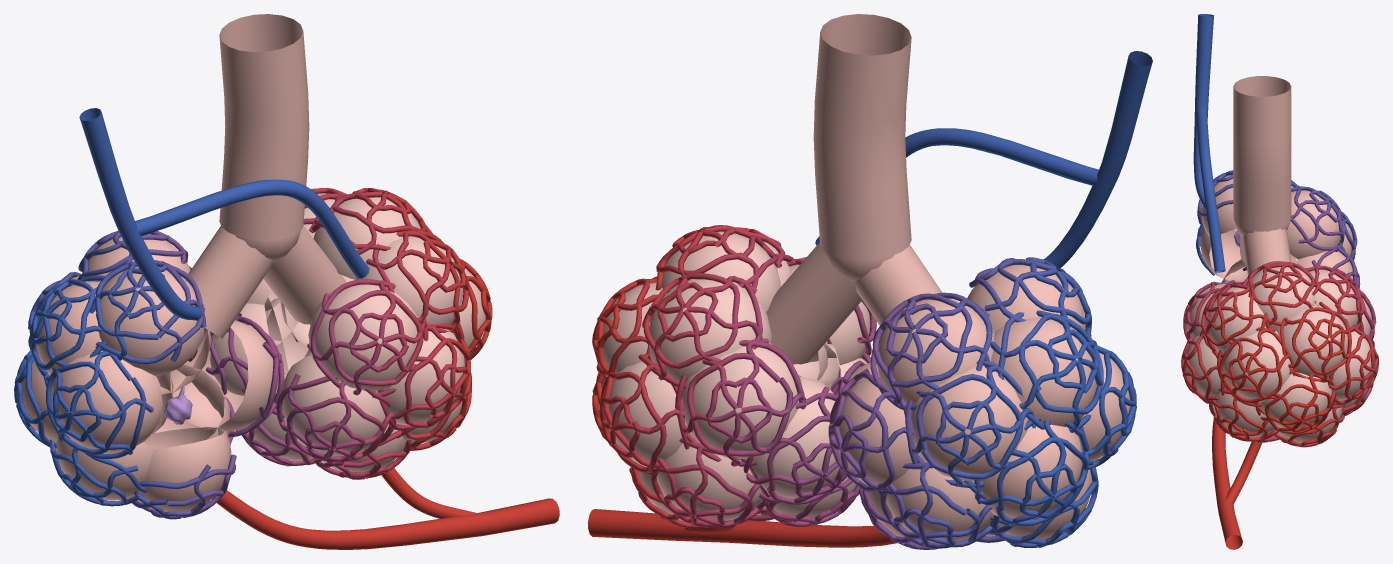
The model's file is alveolos.glb.
3 views of the same model, side by side, from view 1: azimuth 30°, elevation 25°; view 2: azimuth 150°, elevation 25°; view 3: azimuth 270°, elevation 25° (orthographic). The views are drawn at different scales.
Parts seen in each view (by area): view 1: capillaries, alveoli_open, alveolar_sac, resp_bronchiole, venule, alv_duct_1, arteriole, arteriole_2, alv_duct_2, venule_2, macrophage; view 2: capillaries, alveoli_open, alveolar_sac, resp_bronchiole, alv_duct_2, venule, arteriole, arteriole_2, alv_duct_1; view 3: capillaries, alveolar_sac, resp_bronchiole, alveoli_open, arteriole, arteriole_2, venule, alv_duct_2, venule_2.
Part boxes in pixels (x1,y1,x2,y2): capillaries: (14, 188, 492, 519); alveoli_open: (21, 234, 278, 511); alveolar_sac: (210, 193, 485, 472); resp_bronchiole: (219, 14, 309, 261); venule: (211, 489, 559, 549); alv_duct_1: (185, 226, 274, 338); arteriole: (79, 108, 203, 320); arteriole_2: (135, 179, 369, 278); alv_duct_2: (263, 226, 346, 324); venule_2: (381, 468, 477, 518); macrophage: (163, 387, 192, 424); capillaries: (592, 225, 1136, 549); alveoli_open: (835, 265, 1130, 542); alveolar_sac: (598, 231, 870, 520); resp_bronchiole: (813, 14, 911, 282); alv_duct_2: (766, 242, 862, 364); venule: (588, 509, 897, 547); arteriole: (1043, 51, 1152, 268); arteriole_2: (815, 128, 1098, 245); alv_duct_1: (854, 245, 941, 325); capillaries: (1181, 170, 1378, 447); alveolar_sac: (1186, 267, 1371, 443); resp_bronchiole: (1233, 76, 1291, 236); alveoli_open: (1200, 175, 1353, 283); arteriole: (1193, 14, 1213, 208); arteriole_2: (1196, 108, 1225, 272); venule: (1212, 419, 1242, 549); alv_duct_2: (1242, 228, 1291, 275); venule_2: (1226, 441, 1261, 504).
Size of the model in its own units: 0.0845 by 0.0884 by 0.0423.
